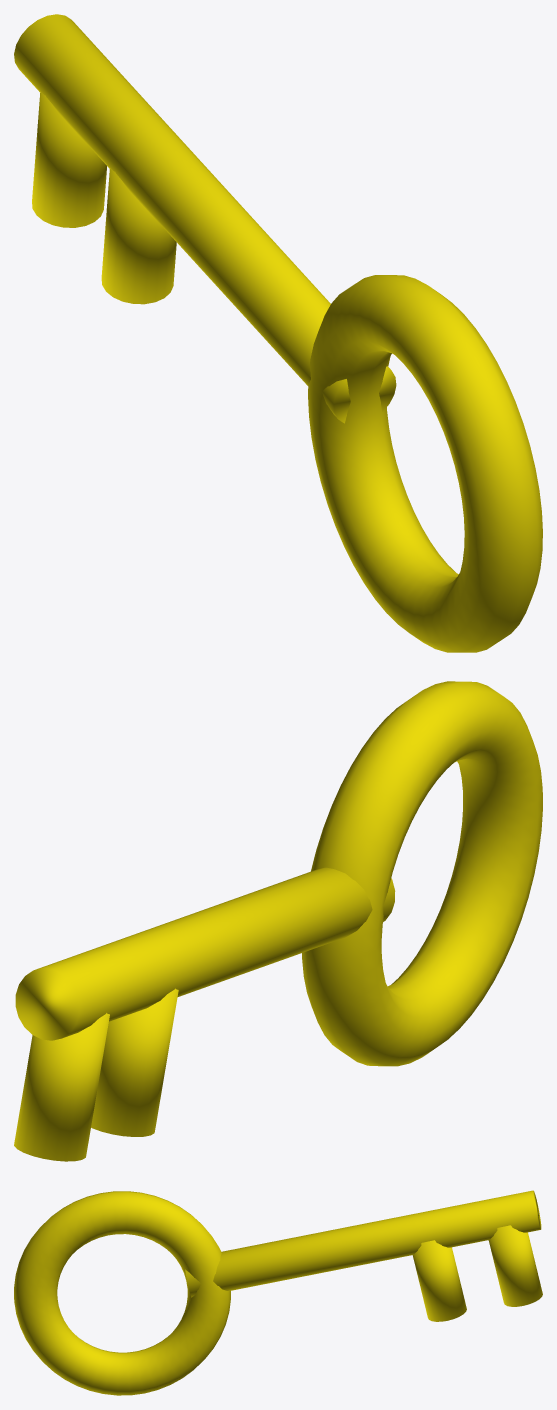
The model's file is Key.fbx.
3 renders of one model, top to bottom at view 1: azimuth 30°, elevation 25°; view 2: azimuth 150°, elevation 25°; view 3: azimuth 270°, elevation 25°, orthographic. The views are drawn at different scales.
Visible parts, largest first — view 1: Torus, Cylinder, Cylinder.001, Cylinder.002; view 2: Torus, Cylinder, Cylinder.002, Cylinder.001; view 3: Torus, Cylinder, Cylinder.002, Cylinder.001.
Boxes of the visible parts, bbox=[...] form: Torus: bbox=[308, 275, 542, 652]; Cylinder: bbox=[14, 14, 396, 423]; Cylinder.001: bbox=[101, 169, 176, 304]; Cylinder.002: bbox=[32, 92, 106, 227]; Torus: bbox=[302, 681, 542, 1066]; Cylinder: bbox=[15, 867, 395, 1040]; Cylinder.002: bbox=[14, 1013, 109, 1161]; Cylinder.001: bbox=[91, 988, 178, 1136]; Torus: bbox=[14, 1191, 230, 1395]; Cylinder: bbox=[185, 1190, 541, 1297]; Cylinder.002: bbox=[488, 1225, 542, 1306]; Cylinder.001: bbox=[412, 1240, 466, 1321].
Bounding box in the file's own units: 61.7 × 251 × 608.
